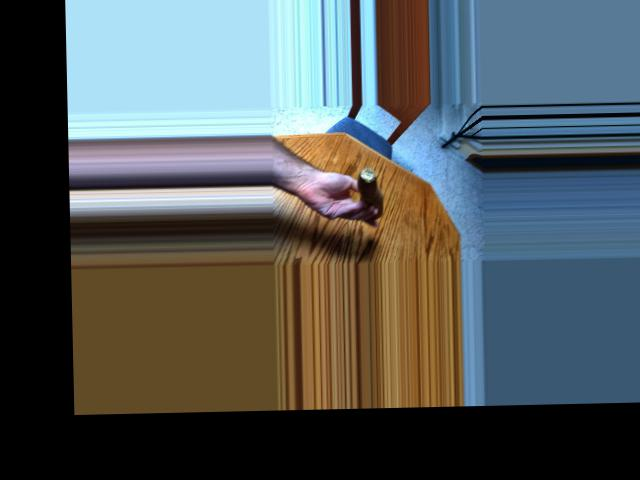sweet_potato: (344, 160, 386, 222)
